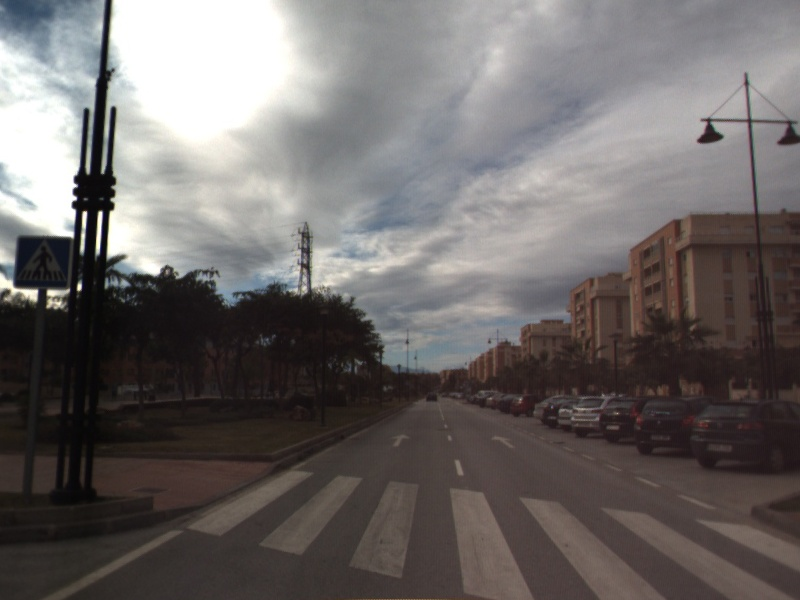STRAIGHT: (489, 434, 518, 450), (389, 432, 413, 448)
